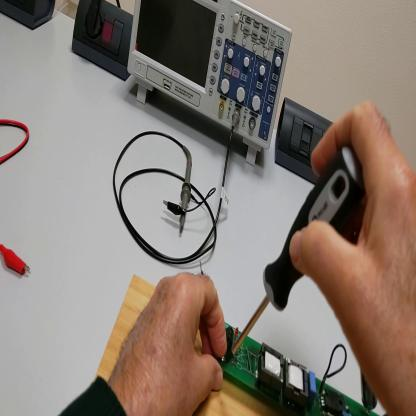hand: (294, 104, 416, 404), (107, 272, 228, 413)
high voltage board: (200, 262, 380, 416)
oscilloscope: (133, 3, 295, 169)
oscilloscope probe tip: (178, 152, 194, 235)
screwdriver-: (224, 143, 366, 363)
socket: (72, 2, 136, 84), (2, 1, 57, 34)
working area: (96, 275, 286, 415)
